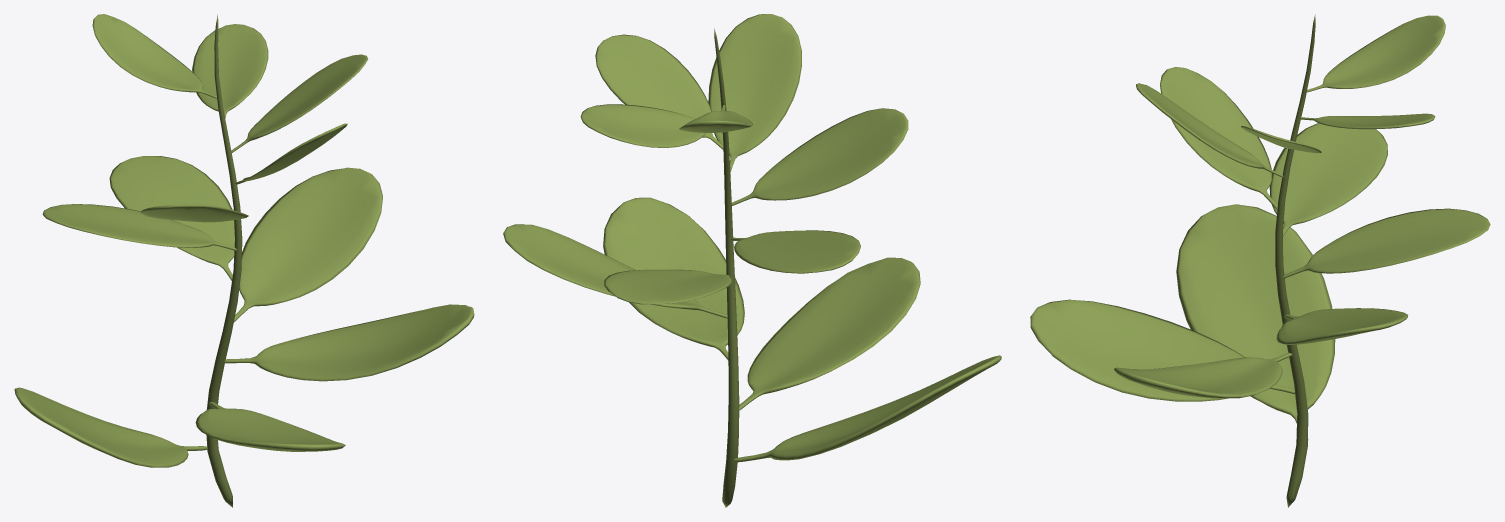
Rendered from Vegetación.fbx.
3 views of the same model, side by side, from view 1: azimuth 30°, elevation 25°; view 2: azimuth 150°, elevation 25°; view 3: azimuth 270°, elevation 25° (orthographic).
Parts seen in each view (by area): view 1: Hojas.001; view 2: Hojas.001; view 3: Hojas.001.
Boxes of the visible parts, x1,y1,x2,y2 form: Hojas.001: [14, 14, 474, 507]; Hojas.001: [503, 14, 1001, 507]; Hojas.001: [1030, 14, 1490, 507].
Size of the model in its own units: 344 by 383 by 324.
